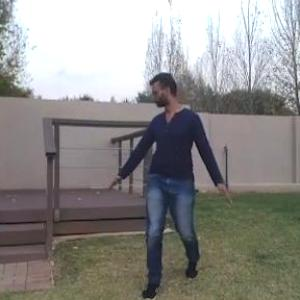land: (104, 70, 227, 299)
